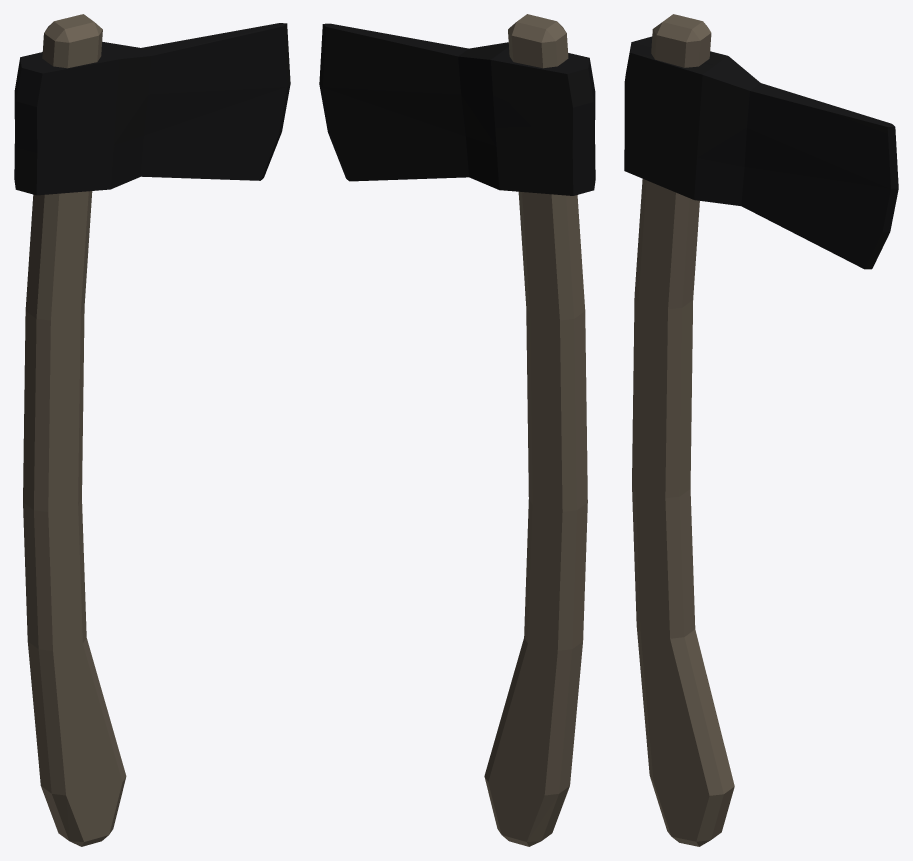
File: axe.glb
The picture shows the model from 3 angles, left to right: view 1: azimuth 30°, elevation 25°; view 2: azimuth 150°, elevation 25°; view 3: azimuth 330°, elevation 25°; orthographic projection.
Visible parts, largest first — view 1: Axe; view 2: Axe; view 3: Axe.
Part boxes in pixels (x1,y1,x2,y2): Axe: (14, 14, 290, 846); Axe: (319, 14, 595, 846); Axe: (624, 14, 898, 846).
Size of the model in its own units: 0.2427 by 0.6933 by 0.0397.
1 material, 1 textured.
